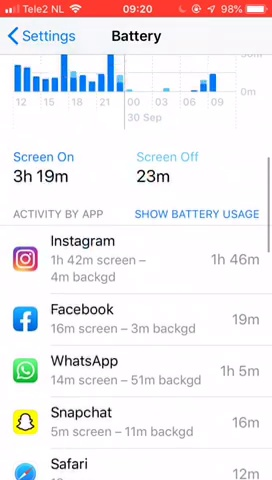app: (10, 227, 265, 283), (13, 298, 266, 338), (12, 350, 265, 390), (13, 400, 266, 440)
